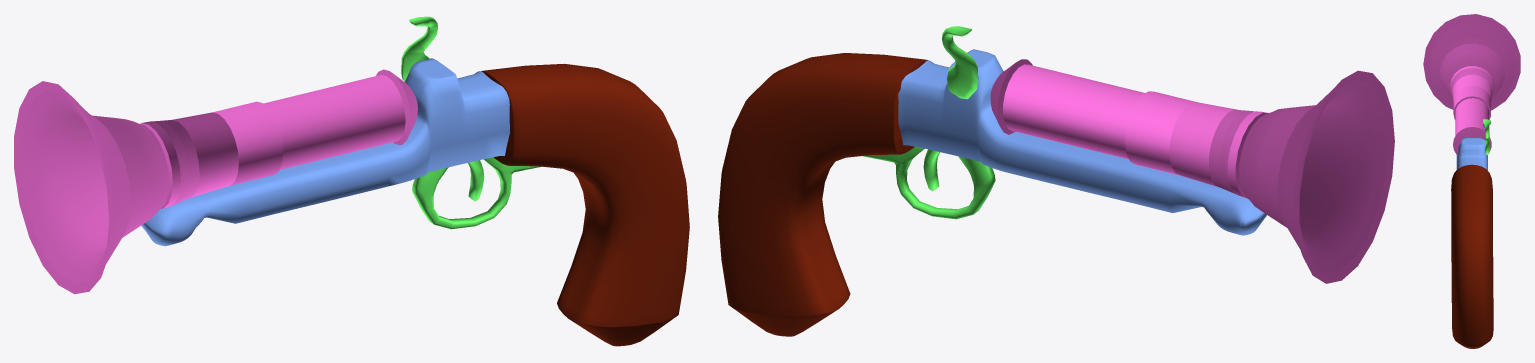
File: Blunderbuss_Attached.FBX
The picture shows the model from 3 angles, left to right: view 1: azimuth 30°, elevation 25°; view 2: azimuth 150°, elevation 25°; view 3: azimuth 270°, elevation 25°; orthographic projection. The views are drawn at different scales.
Parts seen in each view (by area): view 1: BlunderbussBase; view 2: BlunderbussBase; view 3: BlunderbussBase.
Boxes of the visible parts, bbox=[...] form: BlunderbussBase: bbox=[14, 16, 689, 346]; BlunderbussBase: bbox=[718, 26, 1394, 336]; BlunderbussBase: bbox=[1423, 14, 1520, 348].
Size of the model in its own units: 64.51 by 17.58 by 39.07.
